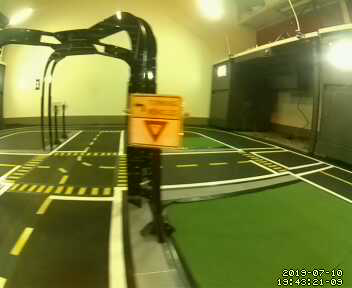Turn Yield: (126, 89, 184, 150)
